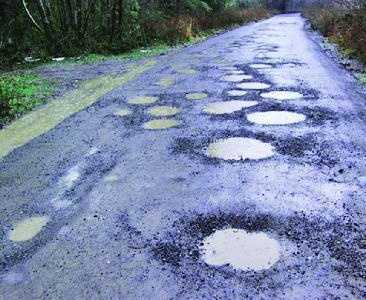pothole: (186, 212, 281, 273), (199, 133, 276, 160), (4, 211, 49, 241), (243, 107, 309, 122), (137, 115, 182, 129), (257, 88, 302, 100), (232, 80, 271, 90), (146, 103, 178, 115), (124, 93, 157, 103), (217, 73, 252, 81), (182, 89, 209, 98), (110, 105, 133, 114), (248, 61, 272, 69)
